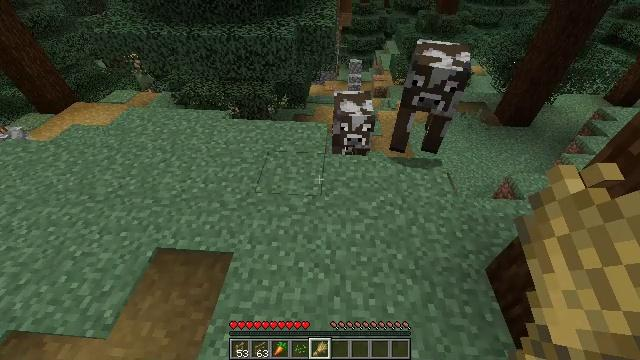cow: (388, 39, 473, 153), (333, 91, 376, 157)
